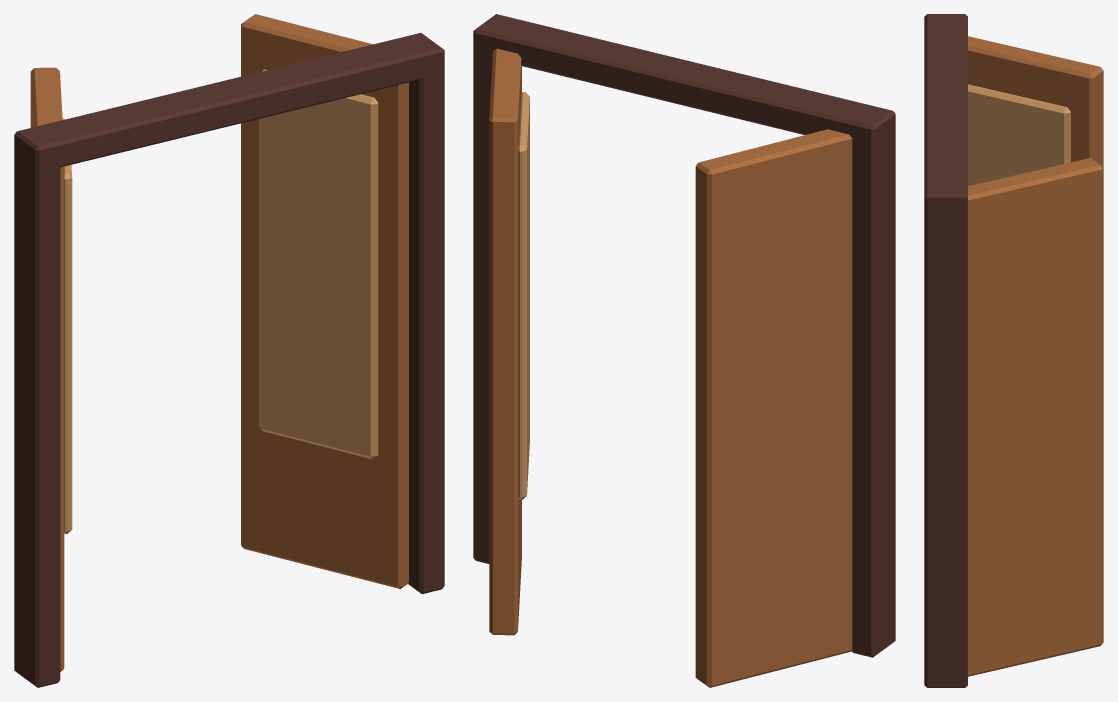
Rendered from door_double.glb.
The picture shows the model from 3 angles, left to right: view 1: azimuth 30°, elevation 25°; view 2: azimuth 150°, elevation 25°; view 3: azimuth 270°, elevation 25°; orthographic projection. The views are drawn at different scales.
Visible parts, largest first — view 1: Batente.006, Folha dupla, Almofada.003; view 2: Folha dupla, Batente.006, Almofada.003; view 3: Folha dupla, Batente.006, Almofada.003.
Boxes of the visible parts, x1,y1,x2,y2 form: Batente.006: [14, 33, 444, 687]; Folha dupla: [30, 14, 408, 671]; Almofada.003: [62, 69, 378, 533]; Folha dupla: [489, 48, 852, 687]; Batente.006: [473, 14, 895, 657]; Almofada.003: [518, 92, 529, 499]; Folha dupla: [968, 36, 1103, 676]; Batente.006: [924, 14, 967, 687]; Almofada.003: [968, 84, 1070, 185].
Bounding box in the file's own units: 1.78 × 2.25 × 0.739.
